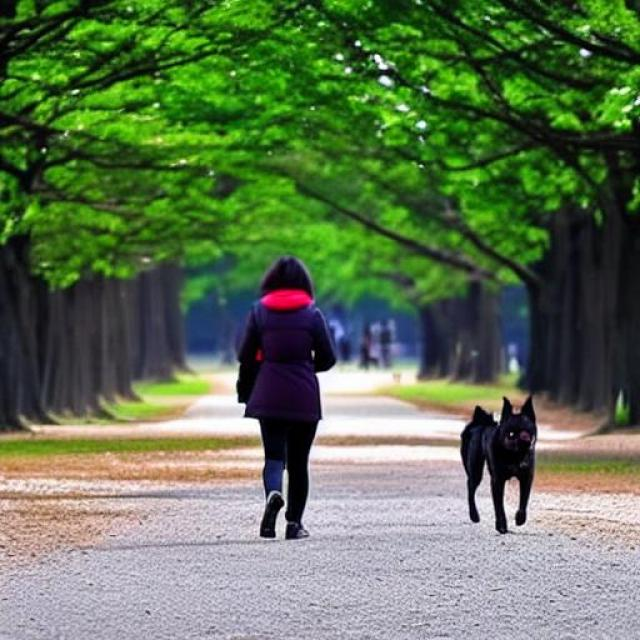Unleashed_Dog: (262, 364, 538, 534)
